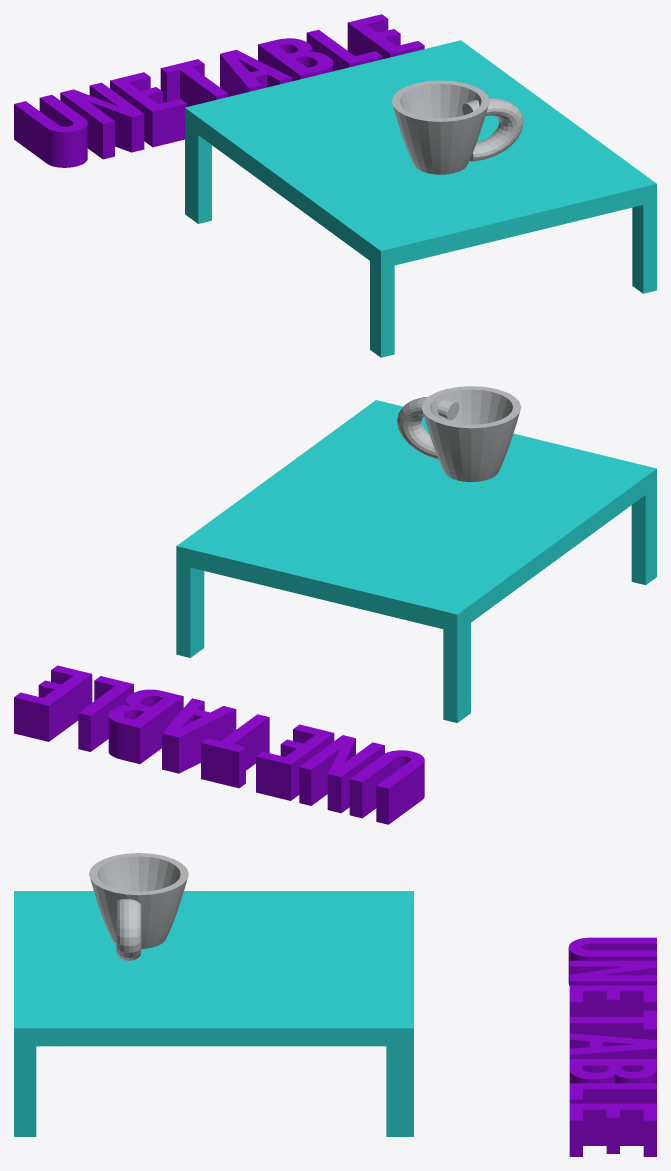
File: coffeetable.glb
3 views of the same model, one above another, from view 1: azimuth 30°, elevation 25°; view 2: azimuth 150°, elevation 25°; view 3: azimuth 270°, elevation 25° (orthographic).
Parts seen in each view (by area): view 1: Mesh_Mesh_head_geo.001_lambert2SG.001; view 2: Mesh_Mesh_head_geo.001_lambert2SG.001; view 3: Mesh_Mesh_head_geo.001_lambert2SG.001.
Boxes of the visible parts, x1,y1,x2,y2 form: Mesh_Mesh_head_geo.001_lambert2SG.001: [14, 14, 656, 357]; Mesh_Mesh_head_geo.001_lambert2SG.001: [14, 386, 656, 824]; Mesh_Mesh_head_geo.001_lambert2SG.001: [14, 853, 656, 1156].
Bounding box in the file's own units: 86.65 × 41 × 129.
